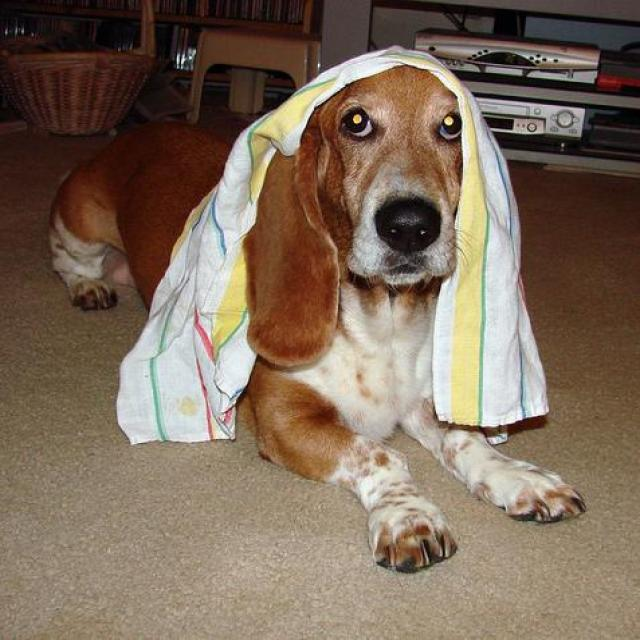basset: (47, 48, 585, 572)
